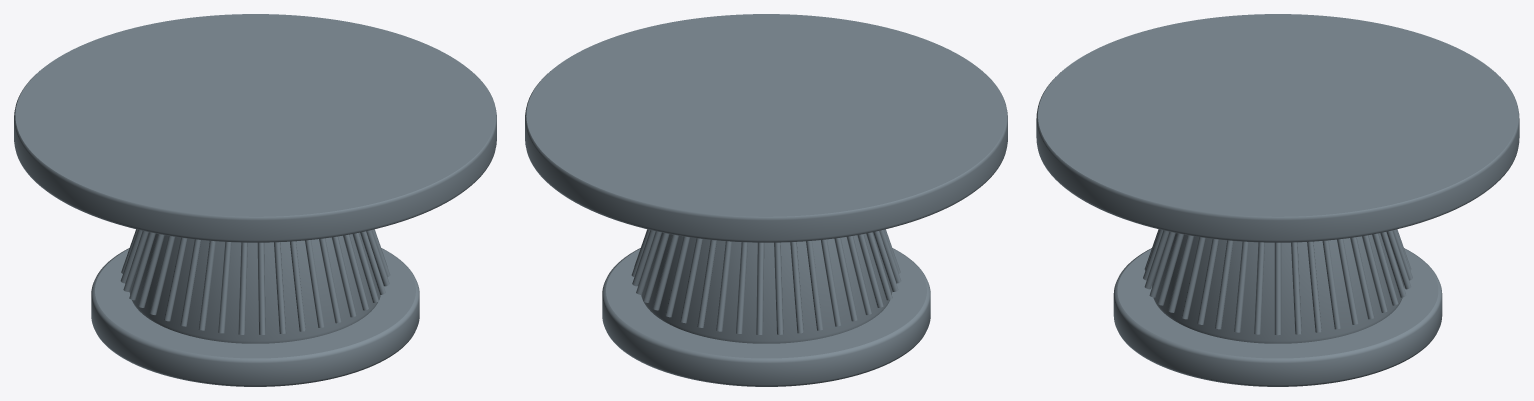
Rendered from drum-coffee-table.glb.
The picture shows the model from 3 angles, left to right: view 1: azimuth 30°, elevation 25°; view 2: azimuth 150°, elevation 25°; view 3: azimuth 270°, elevation 25°; orthographic projection.
Parts seen in each view (by area): view 1: catalog_surface_RealismUV; view 2: catalog_surface_RealismUV; view 3: catalog_surface_RealismUV.
Boxes of the visible parts, bbox=[...] form: catalog_surface_RealismUV: bbox=[14, 14, 496, 386]; catalog_surface_RealismUV: bbox=[525, 14, 1007, 386]; catalog_surface_RealismUV: bbox=[1036, 14, 1519, 386].
Bounding box in the file's own units: 0.86 × 0.4 × 0.86.
